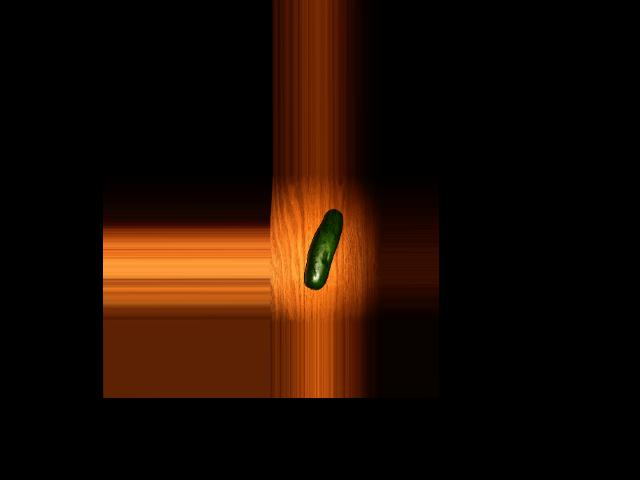cucumber: (303, 208, 342, 288)
